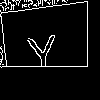Y: (25, 25, 61, 76)
